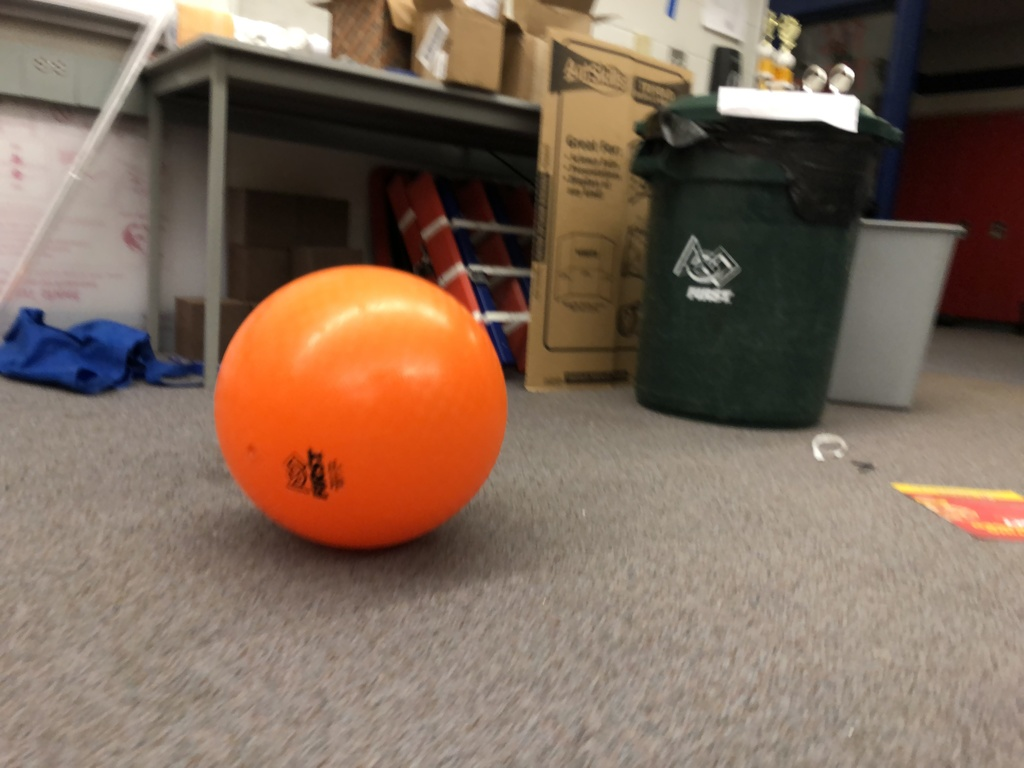cargo: (199, 245, 512, 564)
